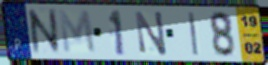1: (107, 9, 128, 57)
8: (209, 10, 237, 59)
I: (186, 11, 200, 57)
M: (56, 9, 99, 55)
N: (25, 7, 64, 57), (133, 10, 169, 57)
